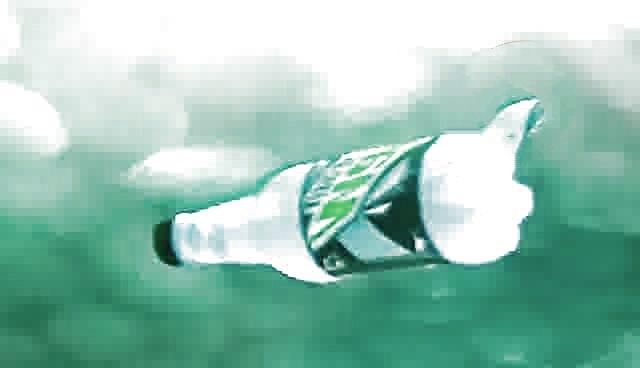Plastic: (143, 125, 539, 299)
